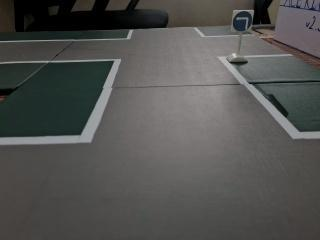left: (231, 10, 255, 34)
